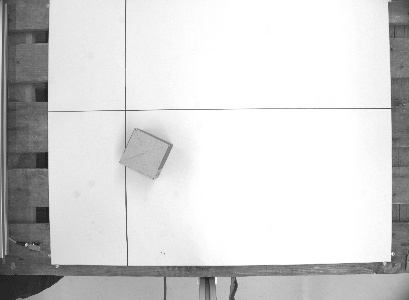b7: (114, 126, 178, 180)
